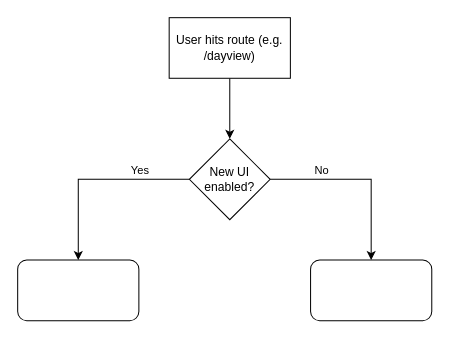
Some shapes in this 449 by 338 pixel diagram are drawn without their labels. The shapes that lost their labels are listed below. From the top down, each one's box as (x1, y1, x2, y2) in pixels, then its label:
(17, 259, 139, 321): New Component
(310, 259, 432, 321): Old Component
